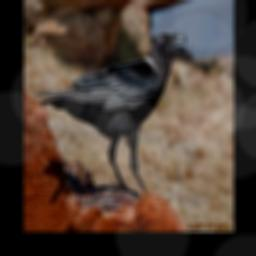Crow: (34, 27, 189, 198)
